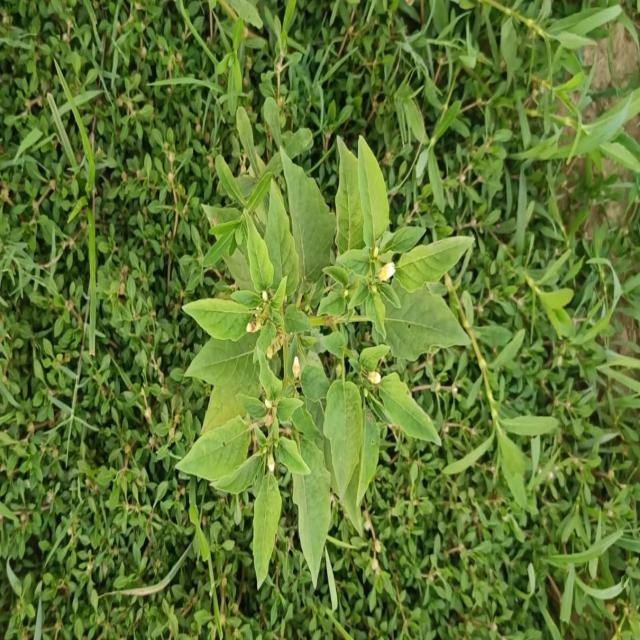weed: (177, 106, 475, 587)
